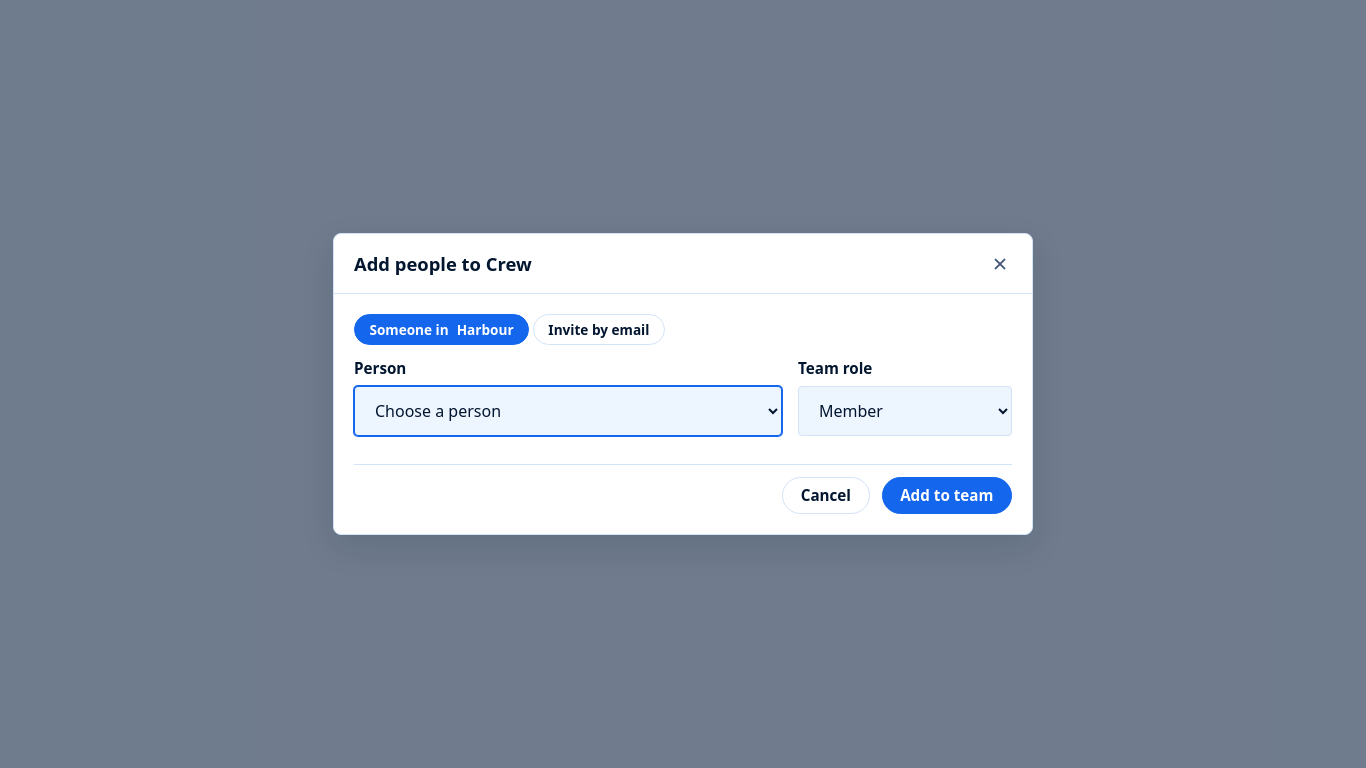
Test: AddPeopleDialog inviting someone new › switches to the invite form
The image size is (1366, 768).
Click the button "Invite by email".
click(599, 330)  # box [533, 314, 665, 345]
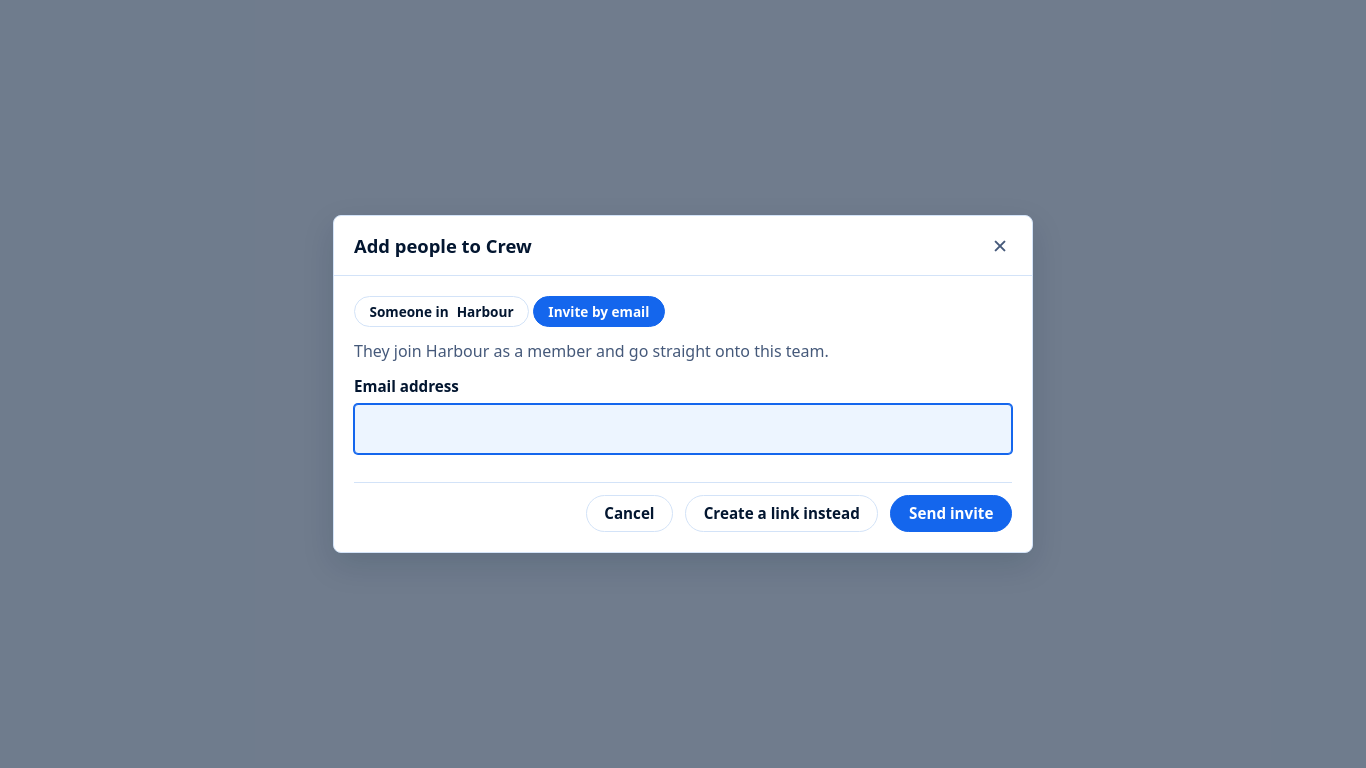
Now the field labelled "Email address" is shown, box [354, 404, 1012, 454]
Now the label labelled "Person" is gone
